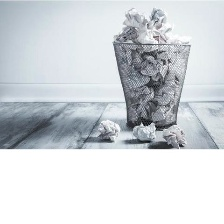book: (108, 4, 191, 128), (159, 120, 189, 150), (94, 117, 122, 146), (128, 116, 155, 145)
